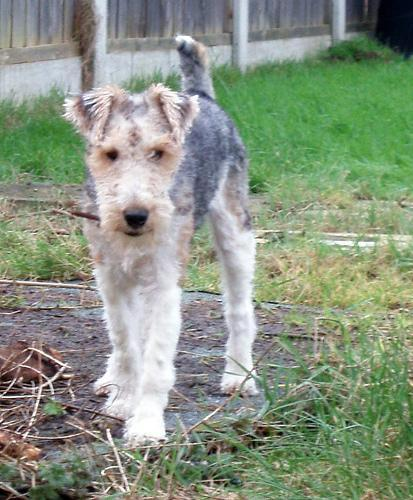wire-haired_fox_terrier: (60, 35, 256, 453)
